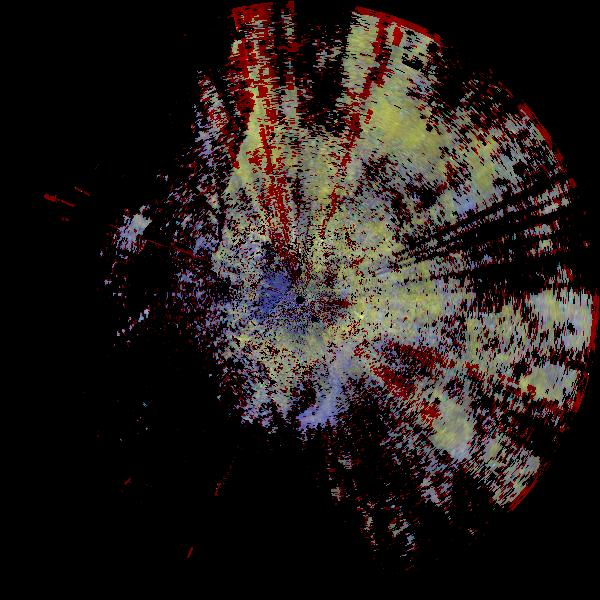roost: (235, 315, 364, 444)
